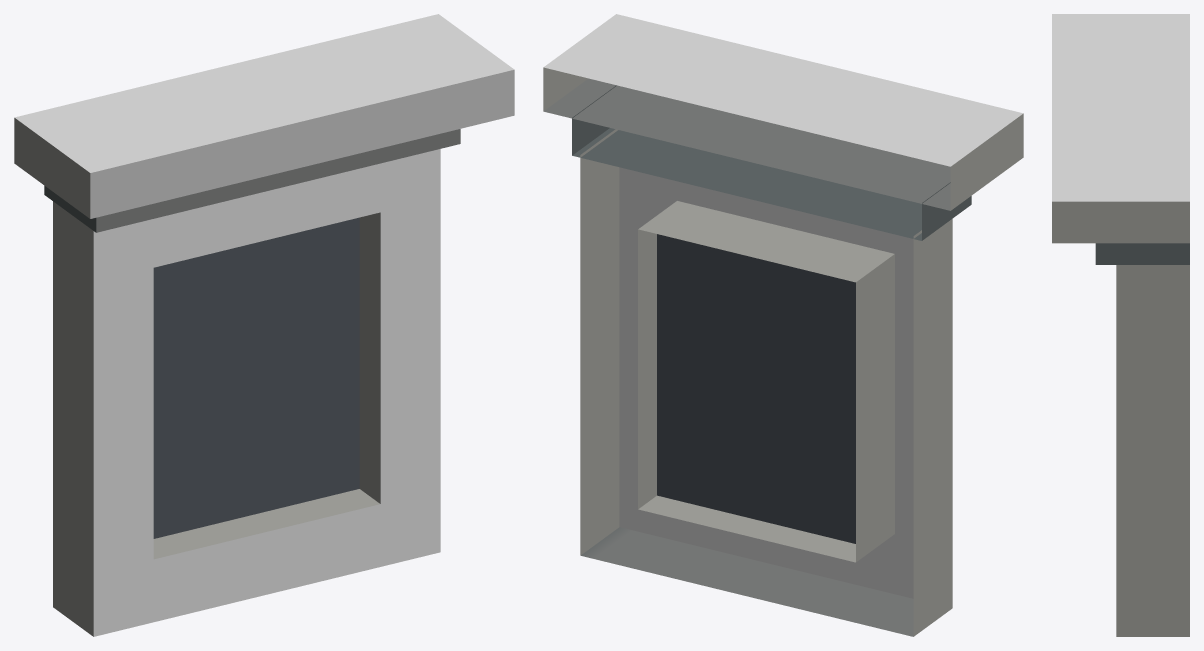
File: TB_CITY_BD_Window_Small_C.FBX
3 renders of one model, left to right at view 1: azimuth 30°, elevation 25°; view 2: azimuth 150°, elevation 25°; view 3: azimuth 270°, elevation 25°, orthographic. The views are drawn at different scales.
Parts seen in each view (by area): view 1: TB_CITY_BD_Window_Small_C; view 2: TB_CITY_BD_Window_Small_C; view 3: TB_CITY_BD_Window_Small_C.
Part boxes in pixels (x1,y1,x2,y2): TB_CITY_BD_Window_Small_C: (14,14,514,636); TB_CITY_BD_Window_Small_C: (543,14,1023,636); TB_CITY_BD_Window_Small_C: (1052,14,1189,636).
Bounding box in the file's own units: 1.76 × 1.98 × 0.5459.
